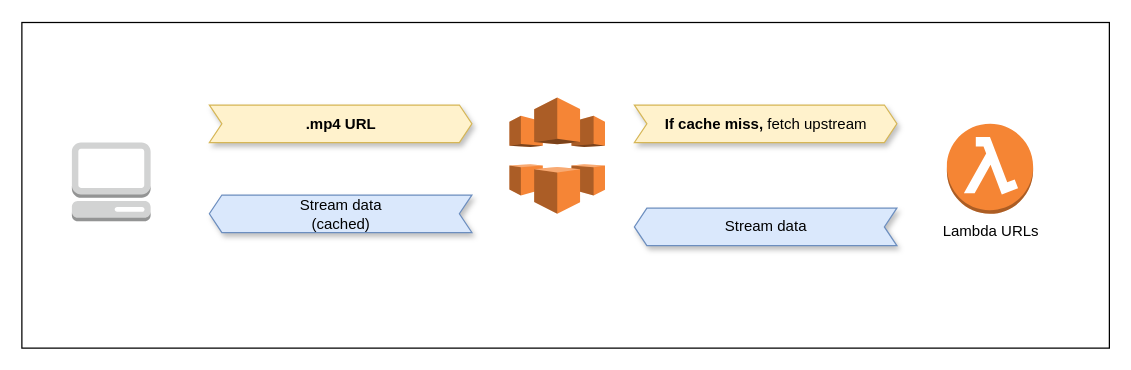
Some shapes in this 1131 by 370 pixel diagram are drawn without their labels. Each missing label, with the centre of its shape:
"Client" goes at point 111,181.
"Cloudfront" goes at point 556,155.
